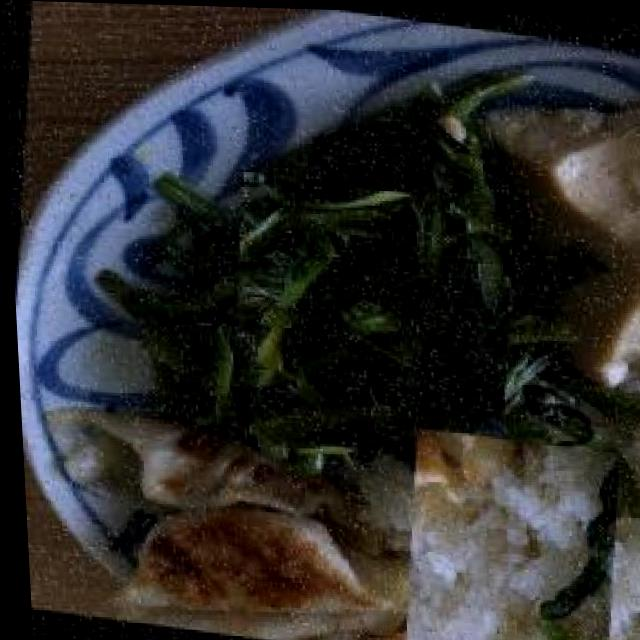fried_dumplings: (47, 408, 381, 640)
rice: (373, 438, 636, 640)
water_spinach: (214, 168, 524, 468)
